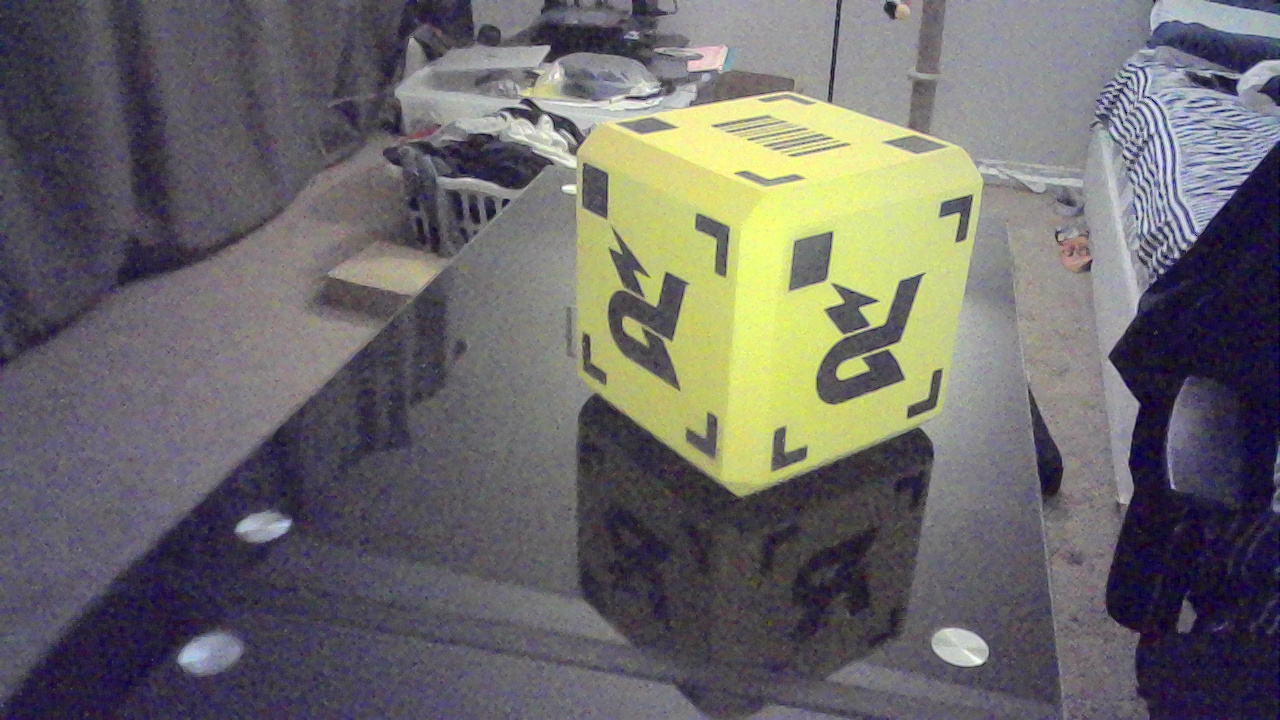Barcode: (719, 113, 868, 175)
R: (590, 246, 719, 401), (815, 281, 924, 417)
